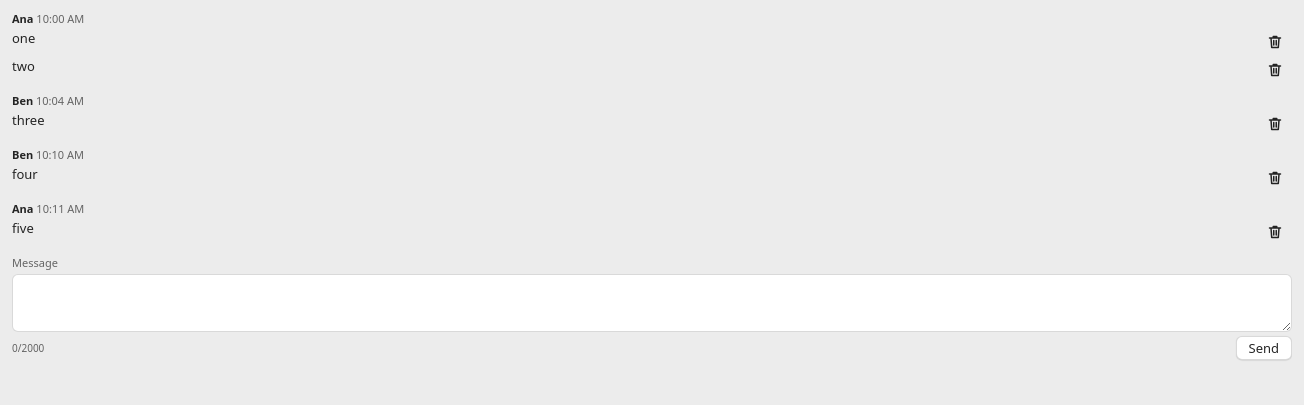
Scenario: ChatPane (spec 003 FR-15) › a removal that fails says so
The width and height of the screenshot is (1304, 405).
Click the button named "Remove message from".
click(1275, 42)  # box [1258,30,1292,54]
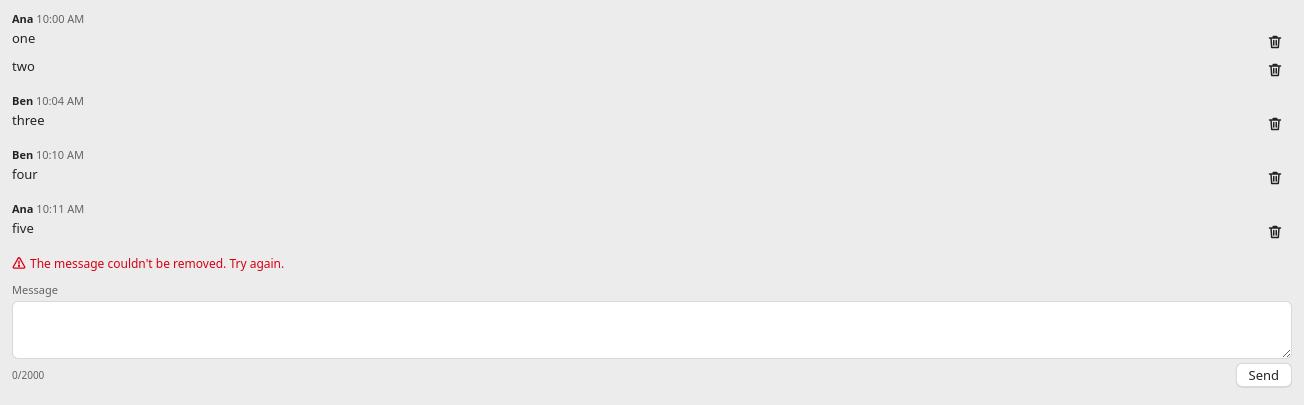
Expected: the text "The message couldn't be removed. Try again." is shown, [30,256,284,271]
